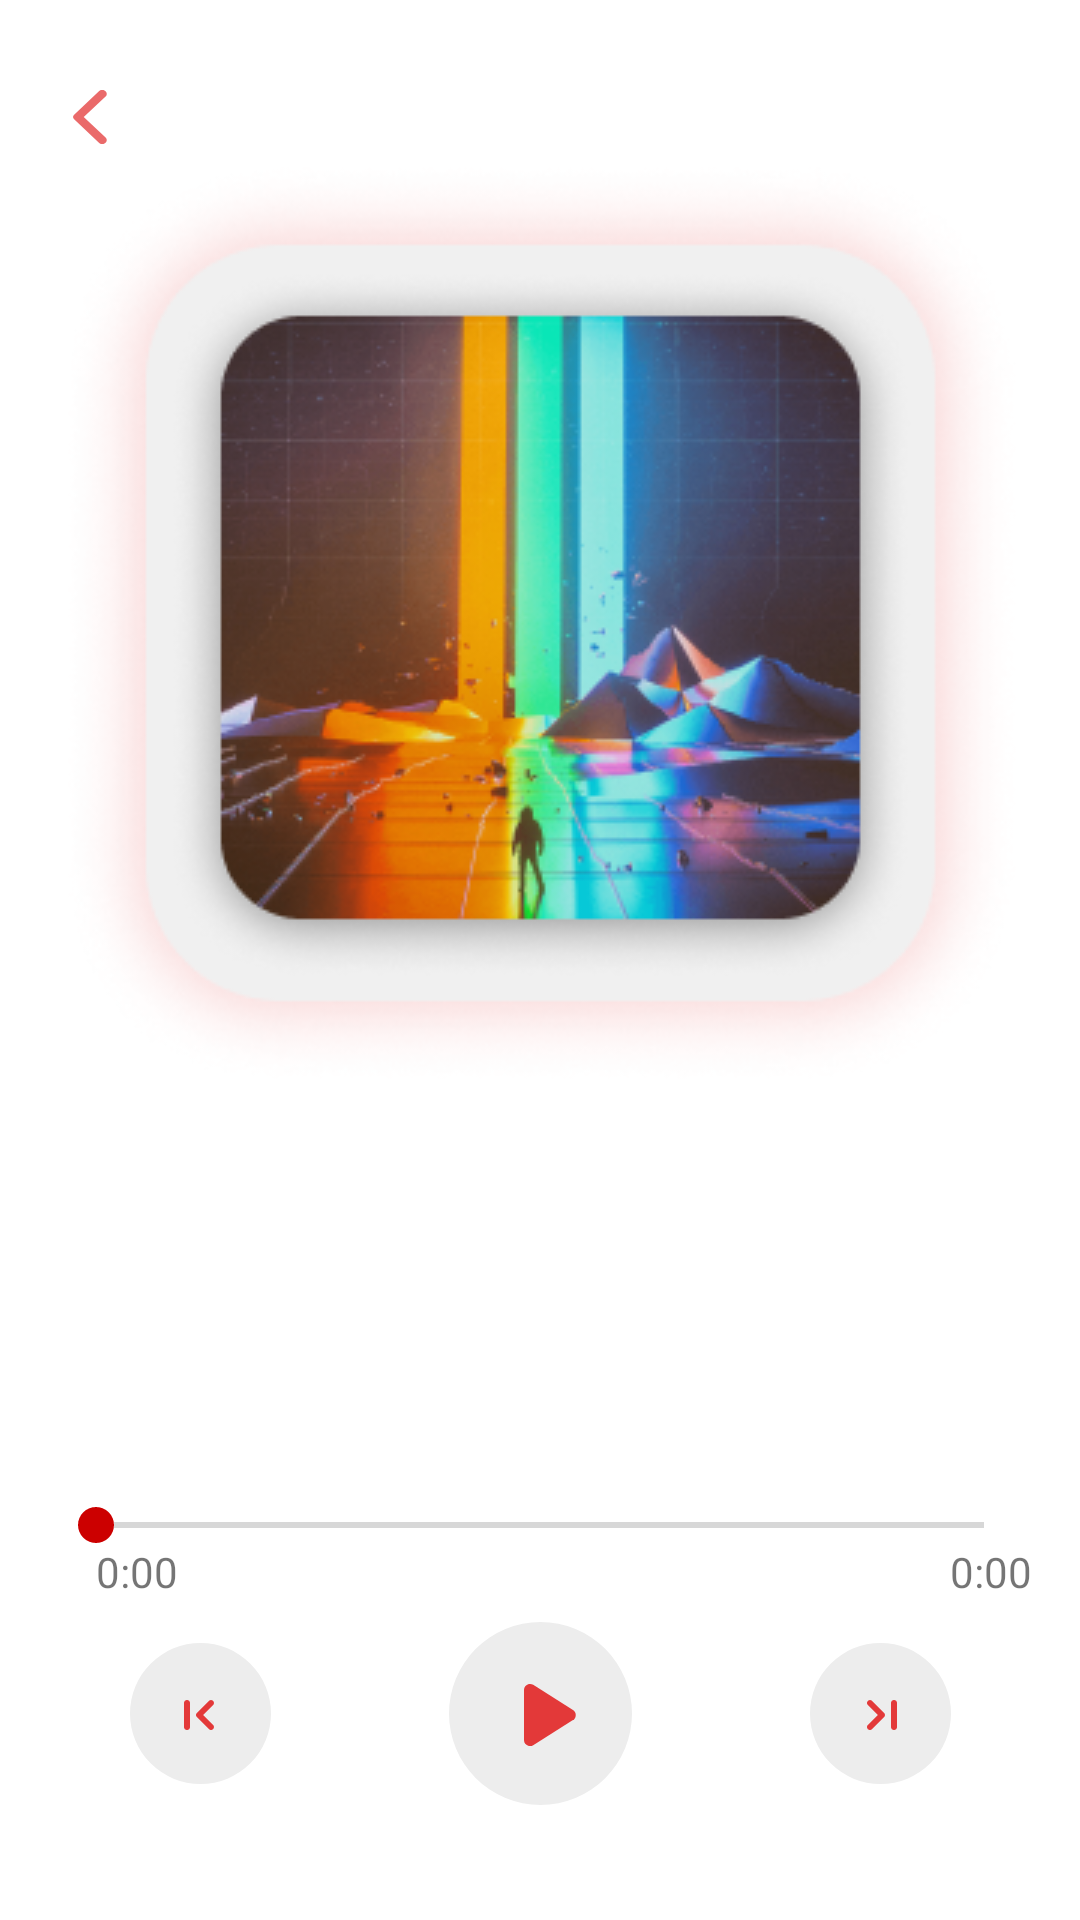

Icons on this 1080*1920 Android screen, each with its box as (x1, y1, x2, y2):
arrow back: (73, 90, 107, 144)
next: (810, 1643, 951, 1784)
play: (524, 1684, 576, 1746)
prev: (130, 1643, 271, 1784)
